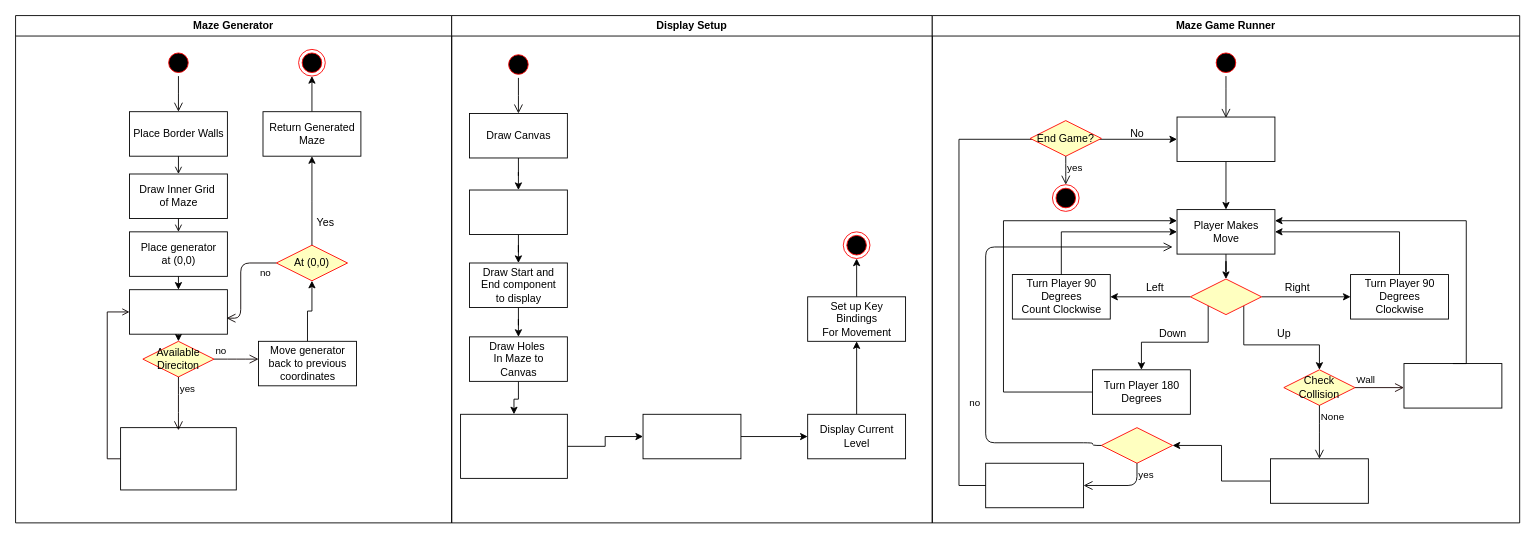
Image size: 1535x538. Some labels were removed from this diagram. Each missing label, with the centre of its shape:
Direction: the point at 1225,296
Do Nothing: the point at 1452,385
Draw Maze Wall Components Onto Canvas: the point at 691,436
Draw Player Component At Current Coordinates Onto Canvas: the point at 513,445
End of Maze?: the point at 1136,445
Get Maze Array From Maze Generator: the point at 518,212
Increment Level: the point at 1034,485
Load Current Level Maze Display: the point at 1225,139
Move Player Component Forward: the point at 1319,480
Pick Random Unvisited and Valid Direction: the point at 178,311
Replace wall between current and selected position with path: the point at 178,458
